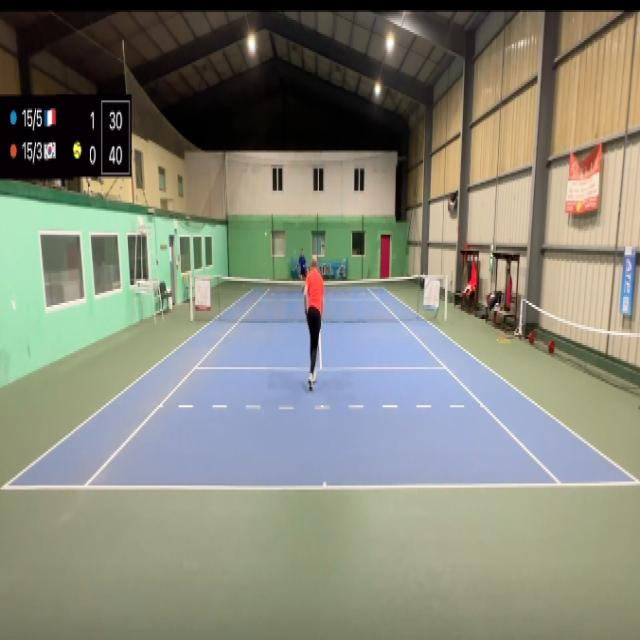ball: (265, 231, 267, 238)
